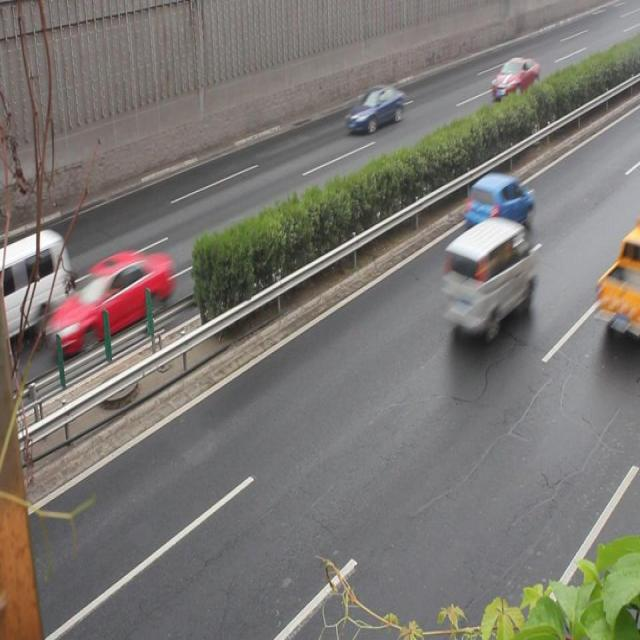bus: (592, 232, 640, 340)
car: (46, 248, 170, 356), (464, 172, 531, 238), (344, 85, 402, 135), (492, 57, 540, 103)
truck: (442, 217, 534, 339), (1, 229, 68, 329)
